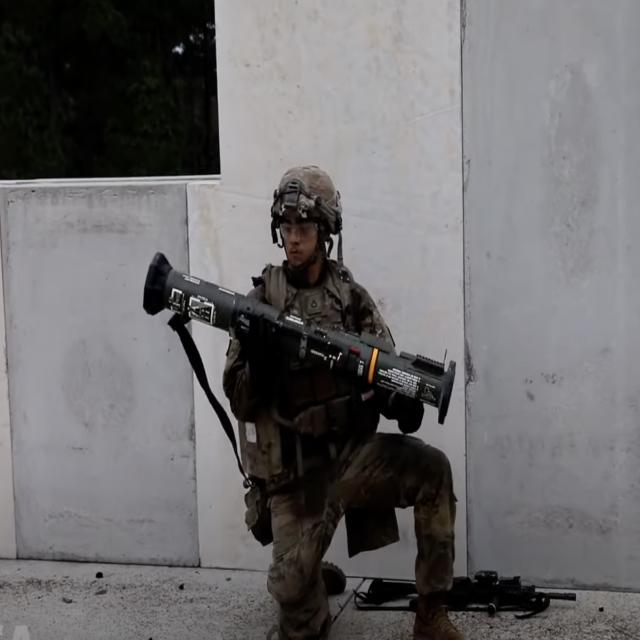bazooka: (129, 221, 466, 446)
